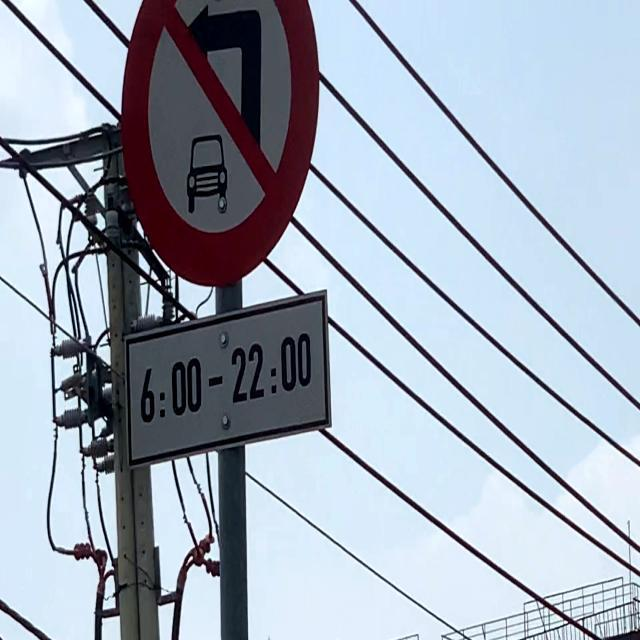123a-cam-re-trai: (118, 0, 321, 288)
